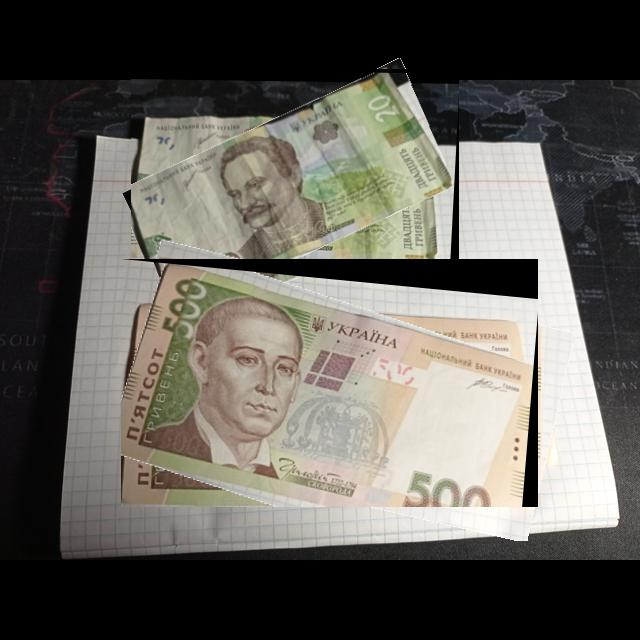20uah: (131, 73, 456, 316)
500uah: (121, 263, 535, 508)
